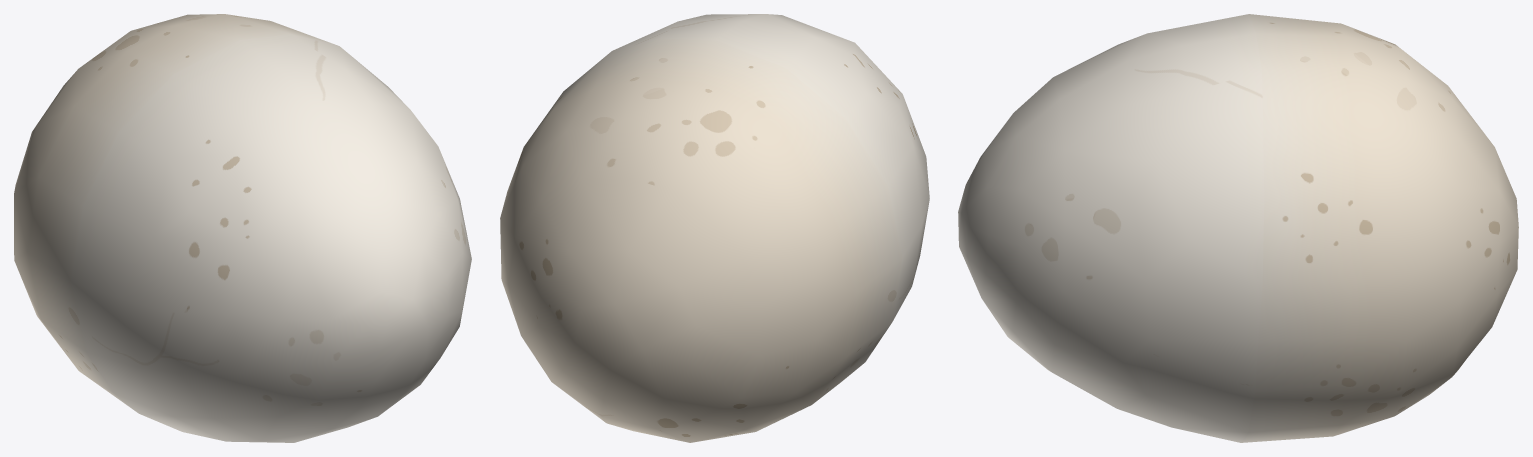
File: EggWholeAnim00.fbx
3 renders of one model, left to right at view 1: azimuth 30°, elevation 25°; view 2: azimuth 150°, elevation 25°; view 3: azimuth 270°, elevation 25°, orthographic. The views are drawn at different scales.
Parts seen in each view (by area): view 1: EggWhole; view 2: EggWhole; view 3: EggWhole.
Boxes of the visible parts, x1,y1,x2,y2 form: EggWhole: (14, 14, 471, 442); EggWhole: (500, 14, 929, 442); EggWhole: (958, 14, 1518, 442).
Bounding box in the file's own units: 0.1186 × 0.1194 × 0.156.
